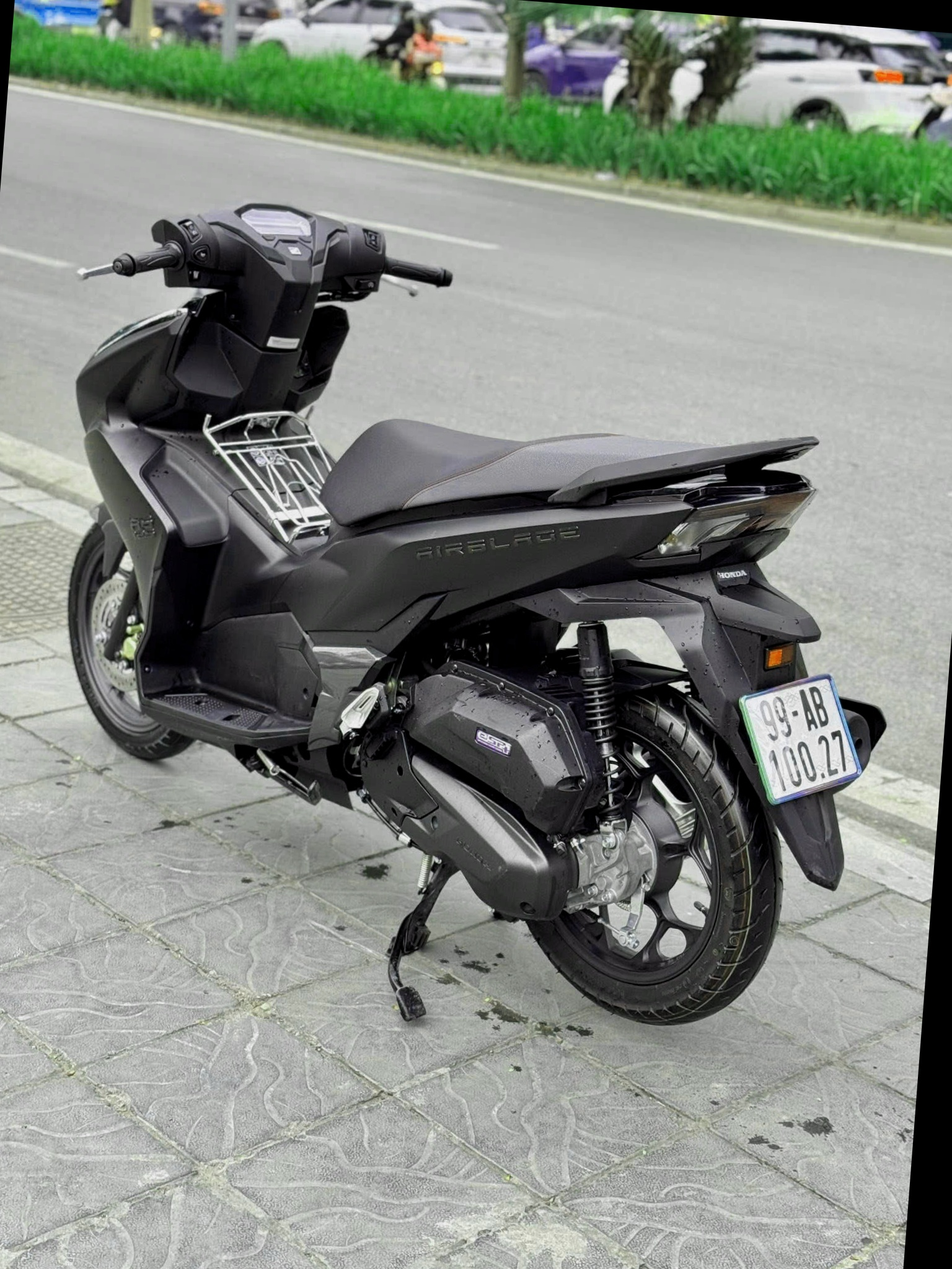Bien-so: (765, 664, 903, 815)
